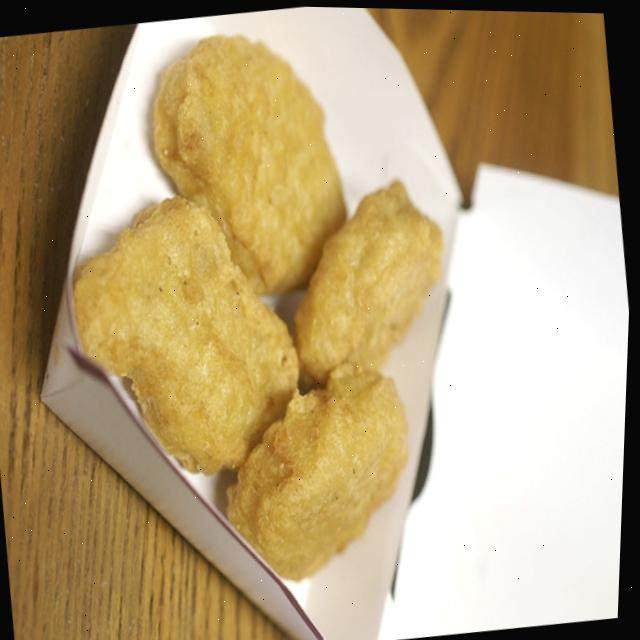鸡肉料理 含炸鸡: (11, 1, 498, 625)
